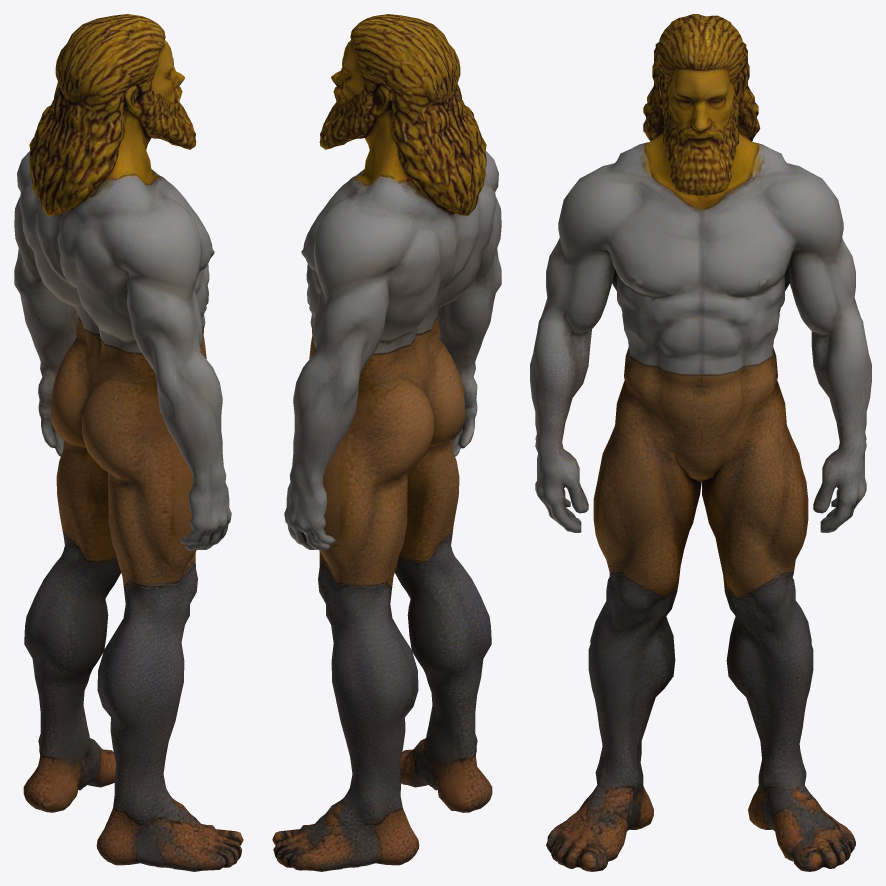
The model's file is daniel-statue-tripo-v31-v1.glb.
3 renders of one model, left to right at view 1: azimuth 30°, elevation 25°; view 2: azimuth 150°, elevation 25°; view 3: azimuth 270°, elevation 25°, orthographic.
Parts seen in each view (by area): view 1: tripo_node_4abc4e54-11c9-4c89-8476-5b5accb08831; view 2: tripo_node_4abc4e54-11c9-4c89-8476-5b5accb08831; view 3: tripo_node_4abc4e54-11c9-4c89-8476-5b5accb08831.
Boxes of the visible parts, <box> form: tripo_node_4abc4e54-11c9-4c89-8476-5b5accb08831: <box>14,14,243,871</box>; tripo_node_4abc4e54-11c9-4c89-8476-5b5accb08831: <box>272,14,501,871</box>; tripo_node_4abc4e54-11c9-4c89-8476-5b5accb08831: <box>530,14,871,871</box>.
Bounding box in the file's own units: 0.2035 × 1 × 0.3777.
1 material, 1 textured.
